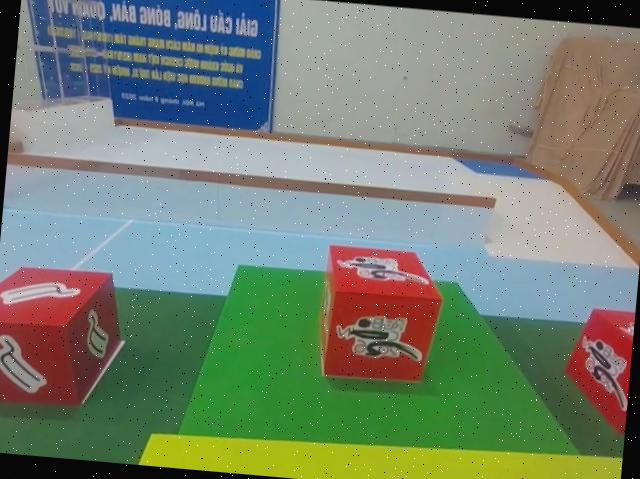R1: (307, 237, 448, 392), (556, 299, 636, 431)
R2 Real: (0, 258, 130, 415)
